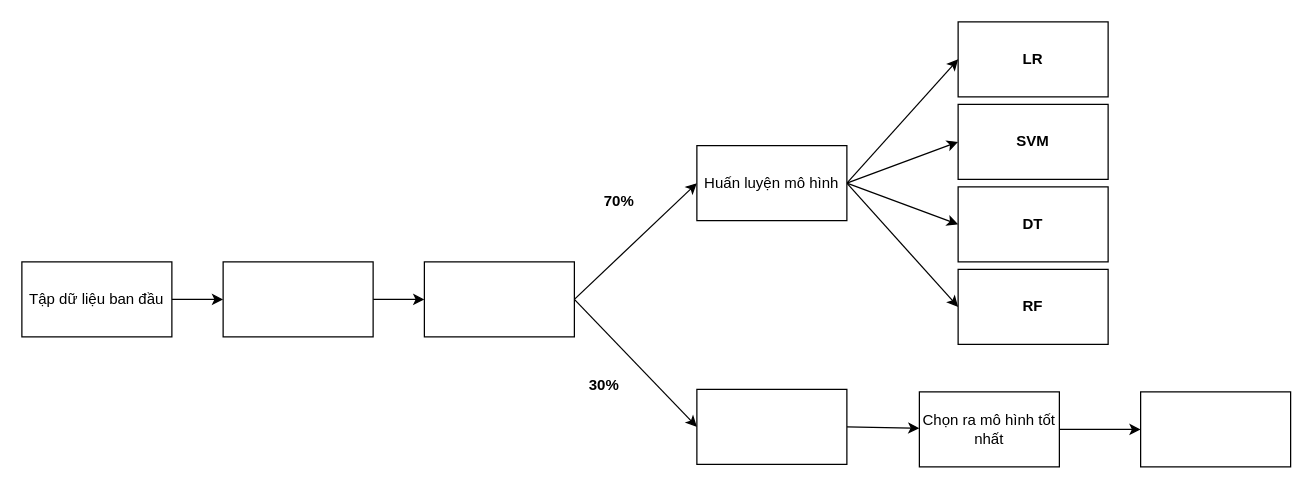
The diagram is 1313 pixels wide and 489 high, and some of its shapes have lost their labels. Each missing label, with the centre of its shape:
Chia dữ liệu: point (498, 299)
Tiền xử lý: point (297, 299)
Triển khai mô hình lên web: point (1215, 429)
Đánh giá mô hình: point (771, 426)
